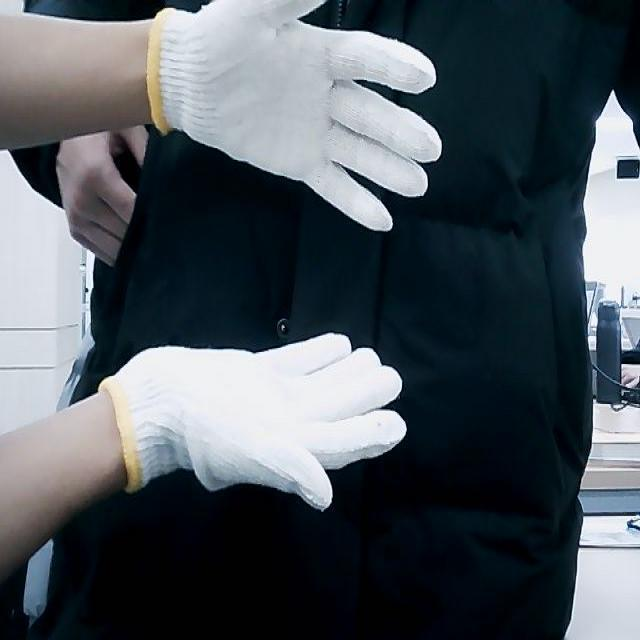gloves: (149, 0, 442, 239), (104, 332, 408, 514)
